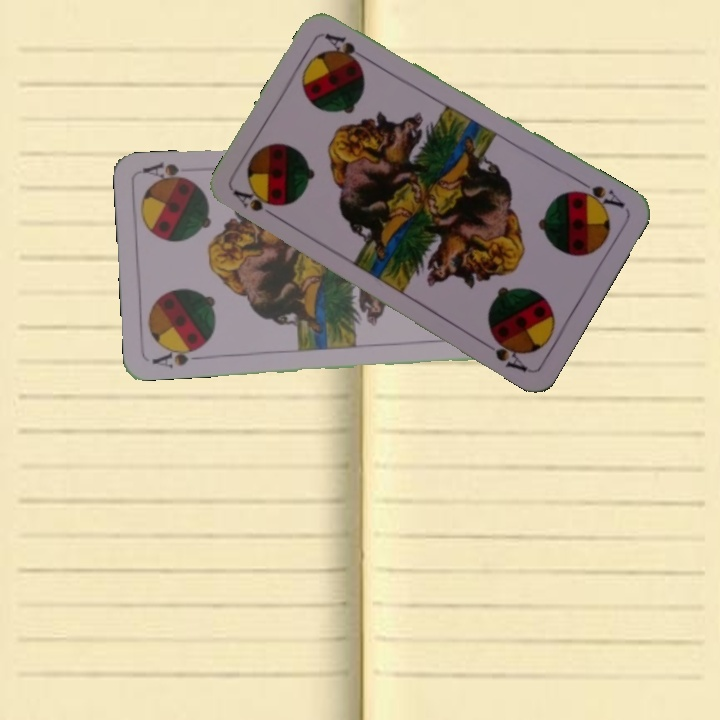SA: (570, 175, 627, 213), (229, 186, 283, 223), (148, 342, 207, 371)
